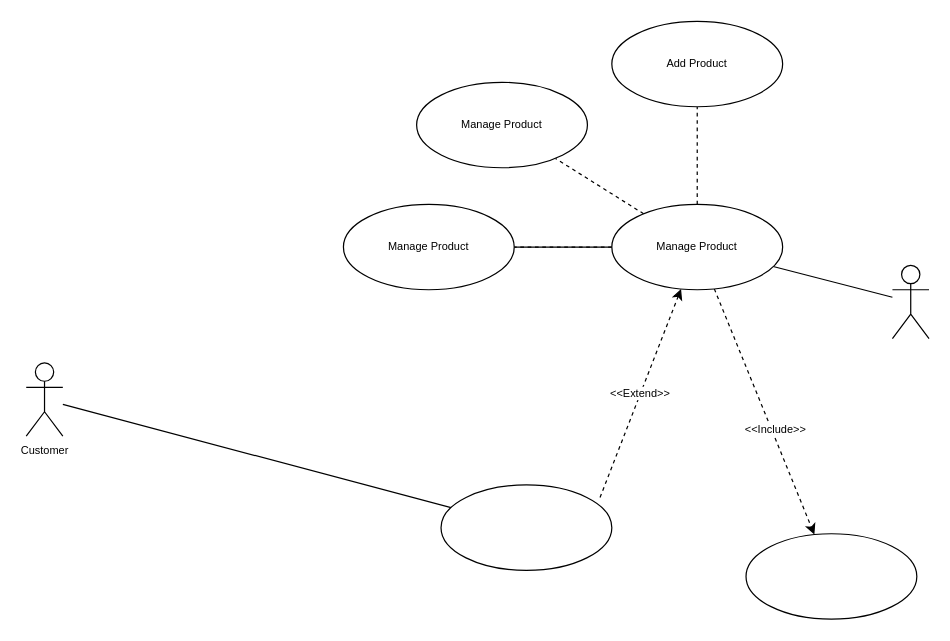
The diagram is 950 pixels wide and 641 high, and some of its shapes have lost their labels. Here are the shapes that lost their labels. From the top down, the box of each, then its label:
(891, 264, 929, 339): Admin
(440, 484, 612, 570): View Product
(745, 533, 917, 619): Login
